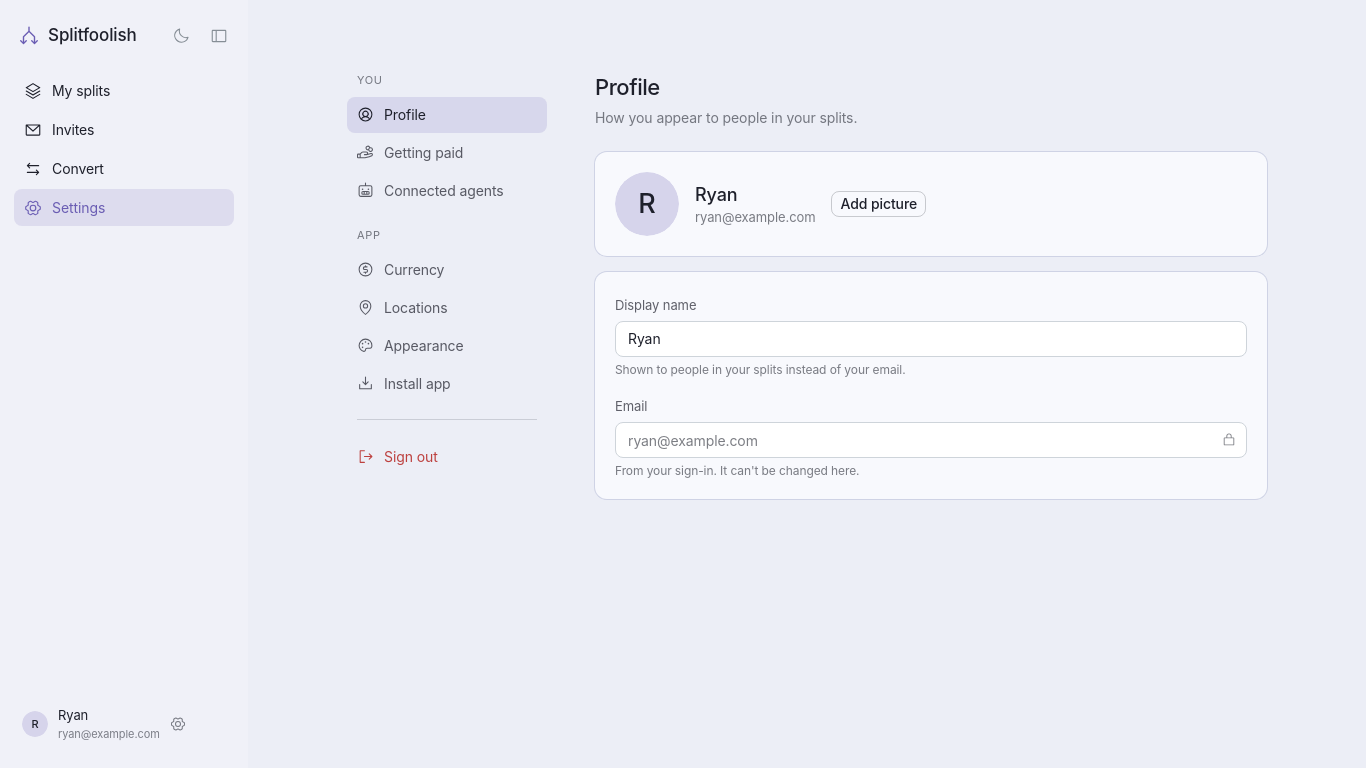
Test: Settings › a slow answer to an earlier save doesn't put back the name typed since
Replace the text in the field labelled "Display name" with "Ryan N" at x=931, y=339, box [615,321,1247,357]
Then press Enter
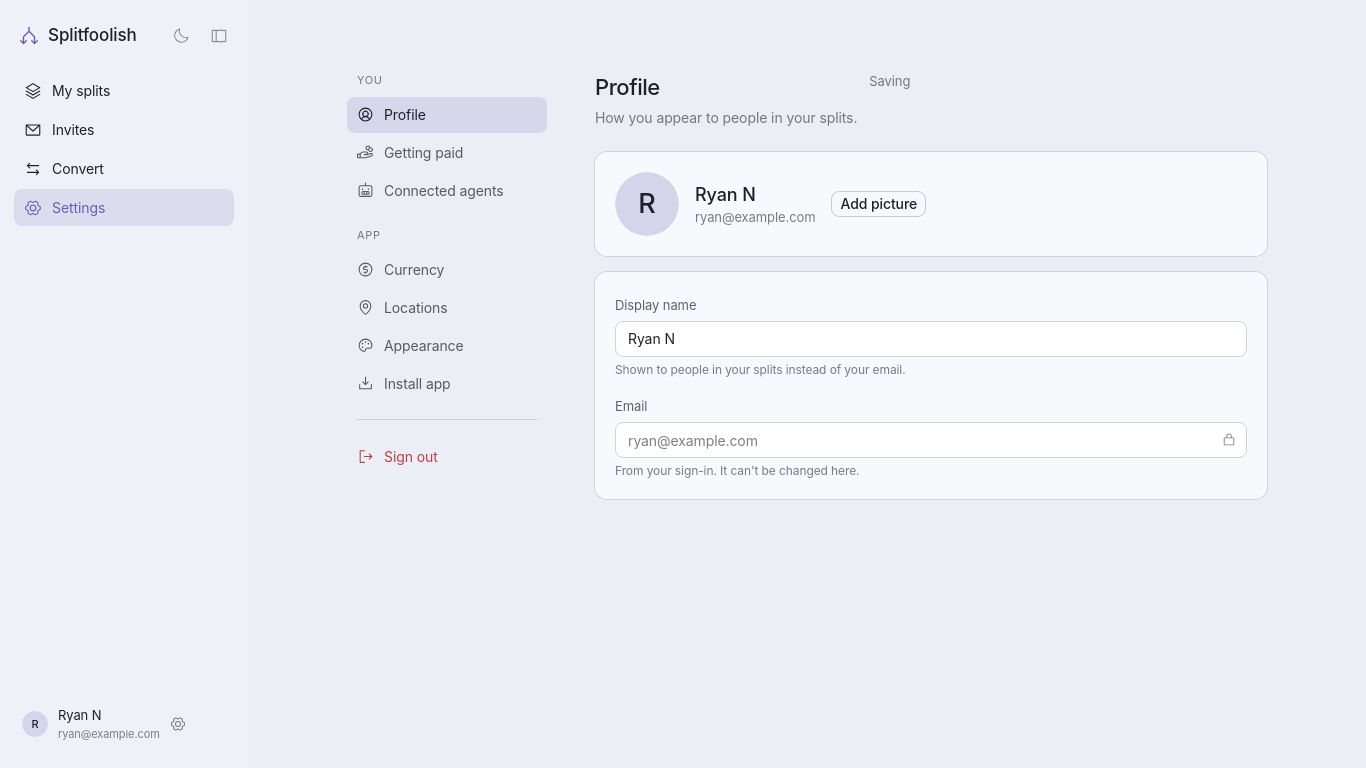
Type "g" into the field labelled "Display name" at x=931, y=339, box [615,321,1247,357]
Then press Enter
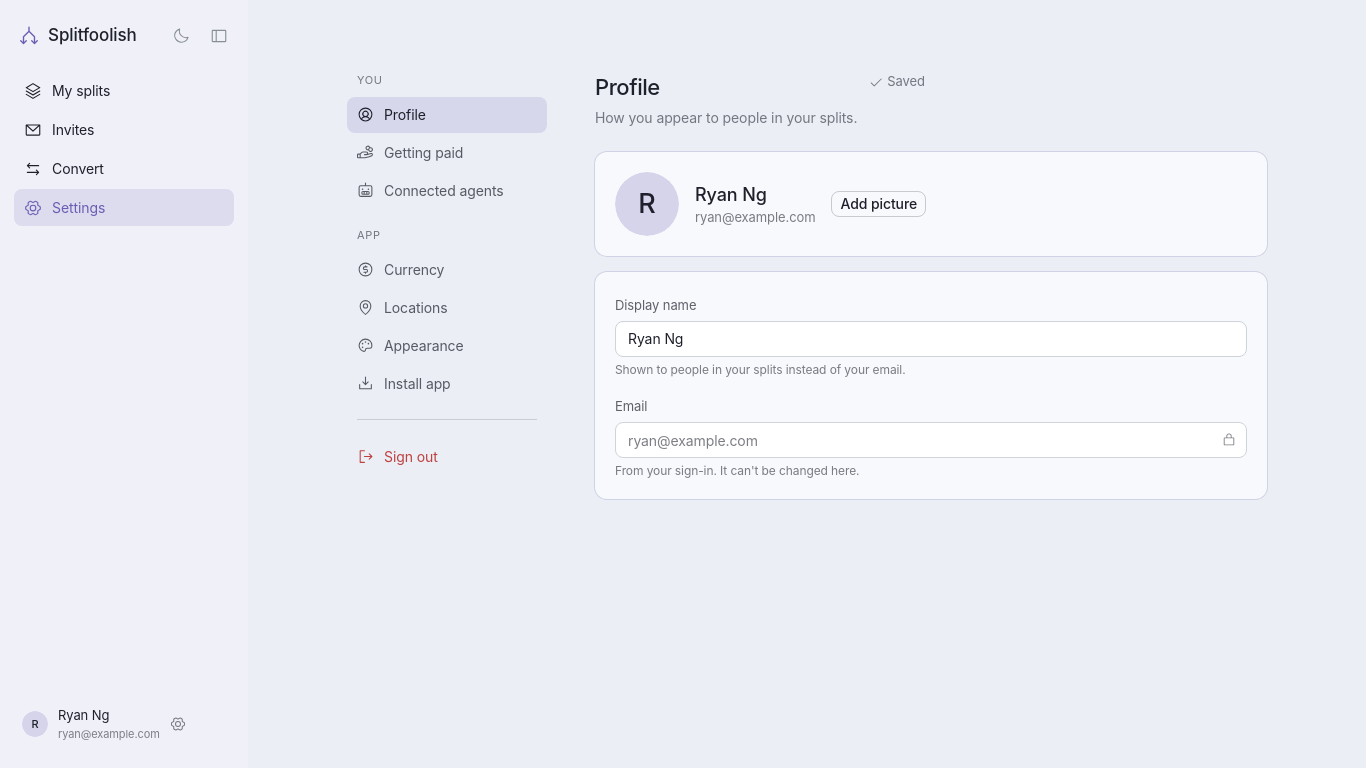
Result: the text "Saved" is shown at [869,72,925,92]
Result: the 2nd text "Ryan Ng" is shown at [58,707,109,723]
Result: the field labelled "Display name" holds "Ryan Ng" at [615,321,1247,357]
